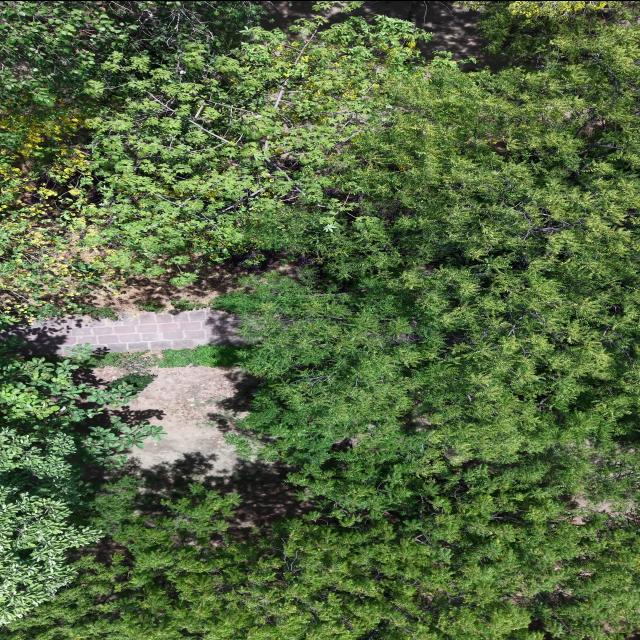DRY_AREA: (109, 365, 311, 536), (113, 366, 311, 536), (120, 366, 310, 529), (121, 366, 308, 526), (14, 249, 296, 352), (120, 366, 300, 519), (126, 366, 253, 474), (82, 248, 298, 311), (327, 1, 502, 69), (328, 1, 499, 67), (94, 250, 281, 309), (0, 309, 242, 354), (0, 309, 241, 354), (407, 1, 491, 65), (327, 1, 415, 22), (571, 495, 637, 519)
PATHWAYS: (2, 309, 242, 354)
VEGETATION_TREE: (0, 1, 639, 639), (217, 12, 638, 509), (0, 1, 416, 319), (4, 479, 637, 639), (87, 18, 419, 276), (0, 1, 258, 320), (0, 344, 163, 622), (0, 1, 261, 164), (85, 344, 241, 370)
